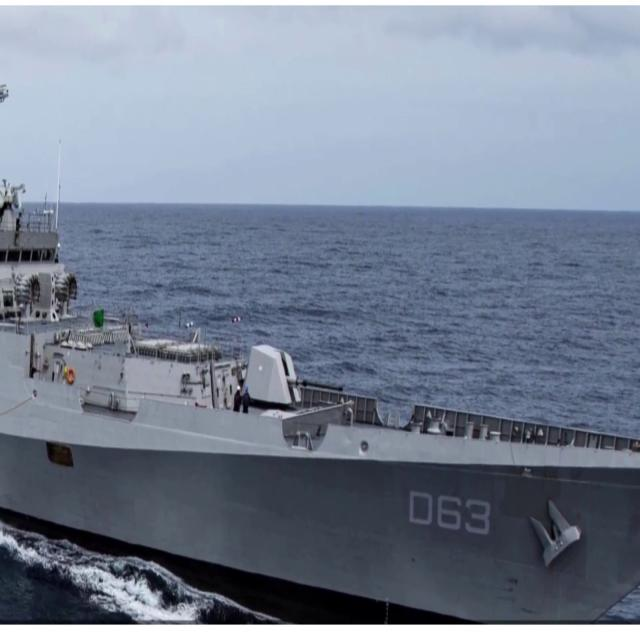OCR: (406, 486, 496, 542)
